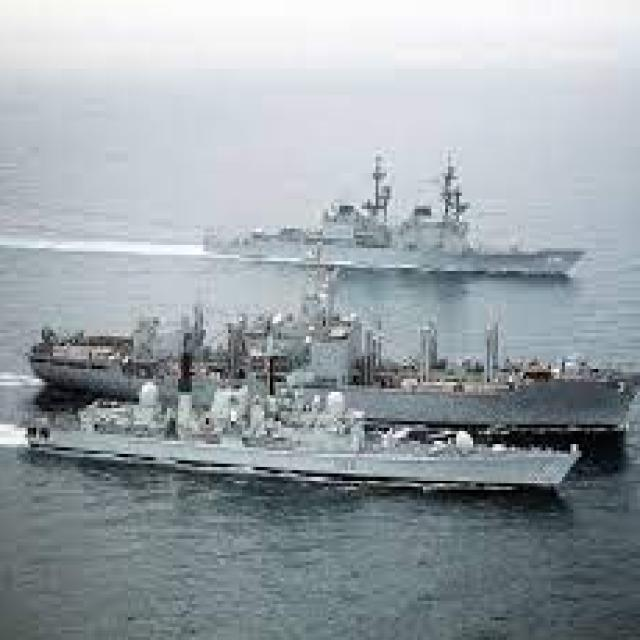navalvessels: (16, 287, 640, 440), (17, 335, 583, 473), (198, 175, 608, 282)
